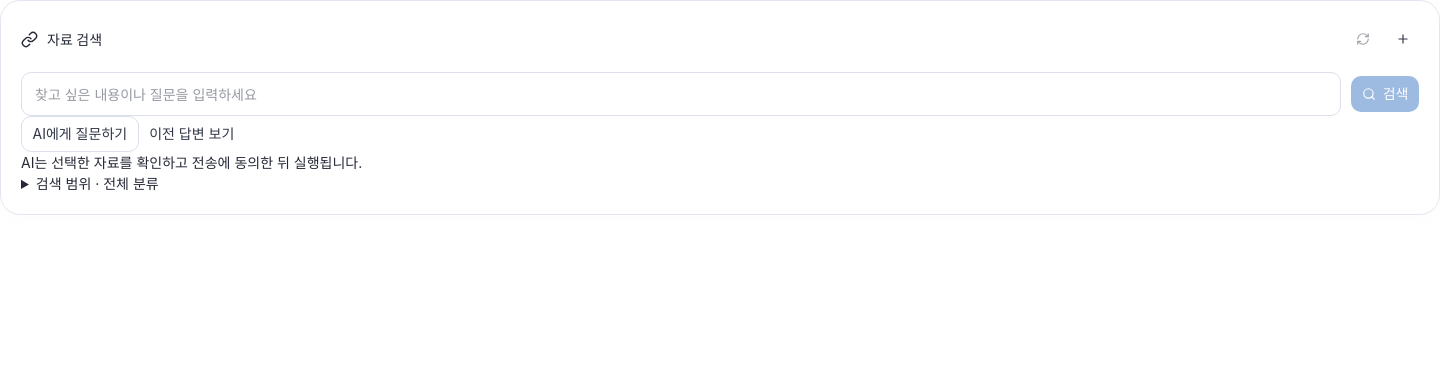
offers file folder and web inputs but no Github input
Click the button named "자료 추가" at (1403,39), box top-left (1388, 21), bottom-right (1419, 57)
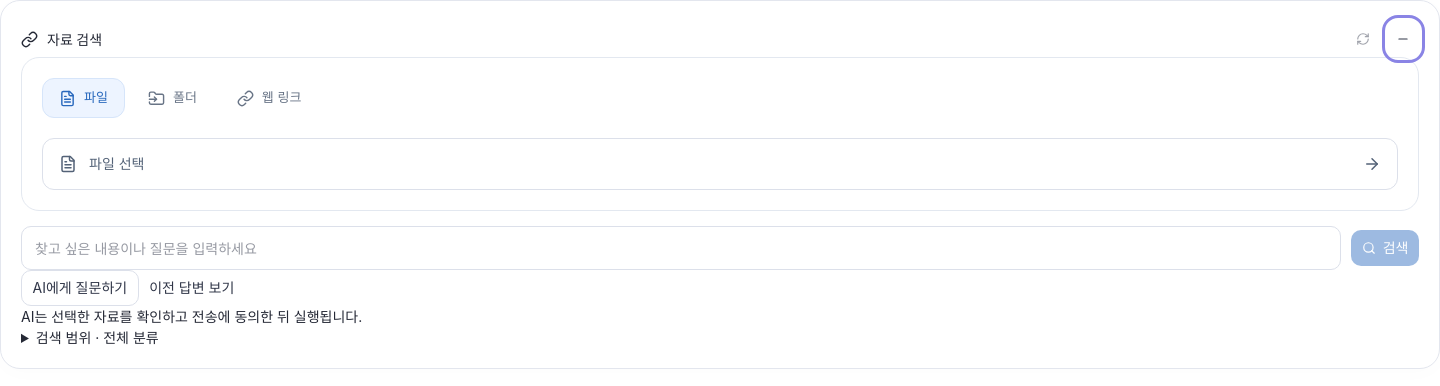
Result: the button "파일" is shown at top-left (42, 78), bottom-right (125, 118)
Result: the button "폴더" is shown at top-left (131, 78), bottom-right (214, 118)
Click the button "웹 링크" at (269,98), box top-left (220, 78), bottom-right (318, 118)
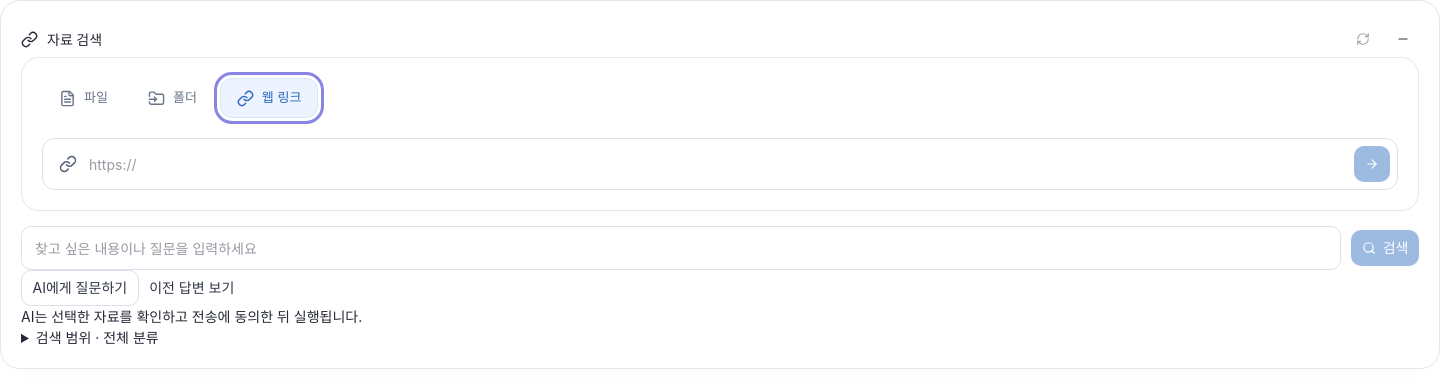
Result: the field named "웹 URL" is shown at top-left (89, 140), bottom-right (1342, 188)
